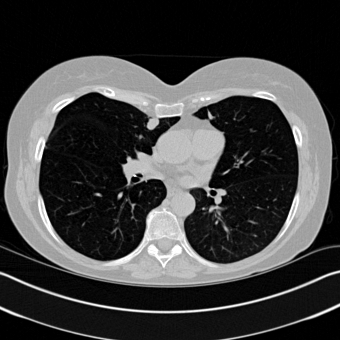nodule: (146, 117, 158, 129)
